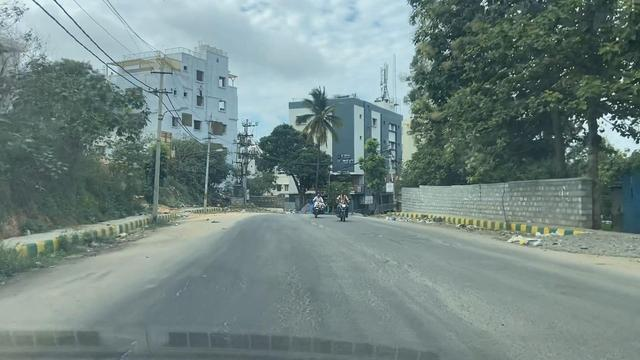RoadDamages: (300, 215, 334, 238)
